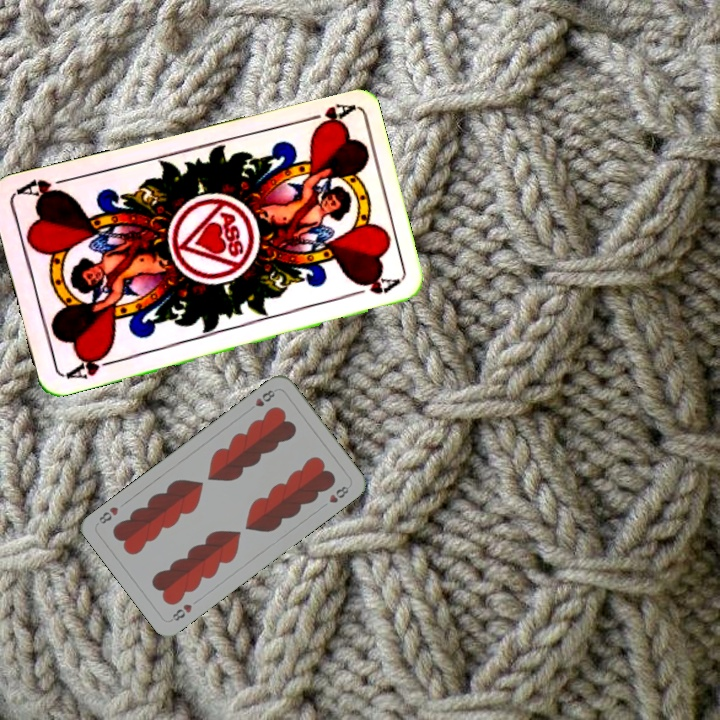H8: (244, 386, 277, 414), (166, 600, 195, 624)
HA: (61, 347, 119, 382), (295, 99, 354, 130)
